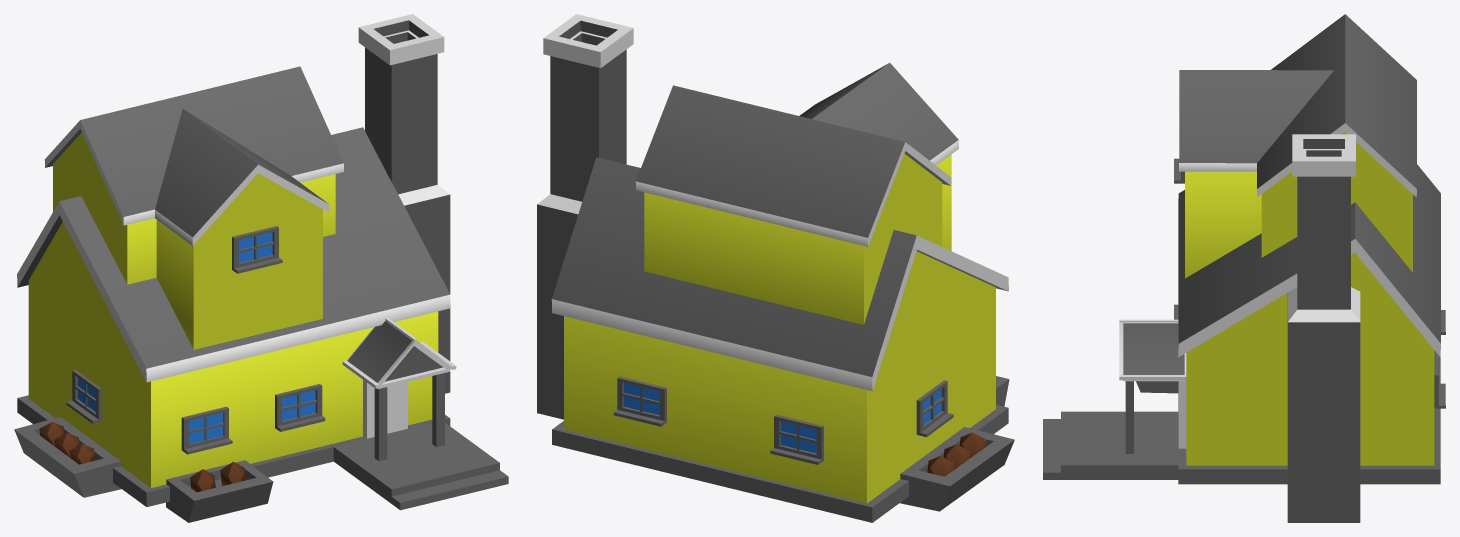
File: emilVilla.fbx
3 renders of one model, left to right at view 1: azimuth 30°, elevation 25°; view 2: azimuth 150°, elevation 25°; view 3: azimuth 270°, elevation 25°, orthographic. The views are drawn at different scales.
Parts seen in each view (by area): view 1: Cube, Cube.001, Cube.002; view 2: Cube, Cube.001; view 3: Cube, Cube.001, Cube.002.
Boxes of the visible parts, left/top/right/bottom form: Cube: left=14, top=66, right=508, bottom=522; Cube.001: left=358, top=14, right=450, bottom=393; Cube.002: left=342, top=318, right=456, bottom=389; Cube: left=551, top=63, right=1014, bottom=522; Cube.001: left=537, top=14, right=633, bottom=419; Cube: left=1043, top=14, right=1445, bottom=484; Cube.001: left=1287, top=134, right=1360, bottom=522; Cube.002: left=1119, top=319, right=1186, bottom=381.
Size of the model in its own units: 12.8 by 10.94 by 11.09.
